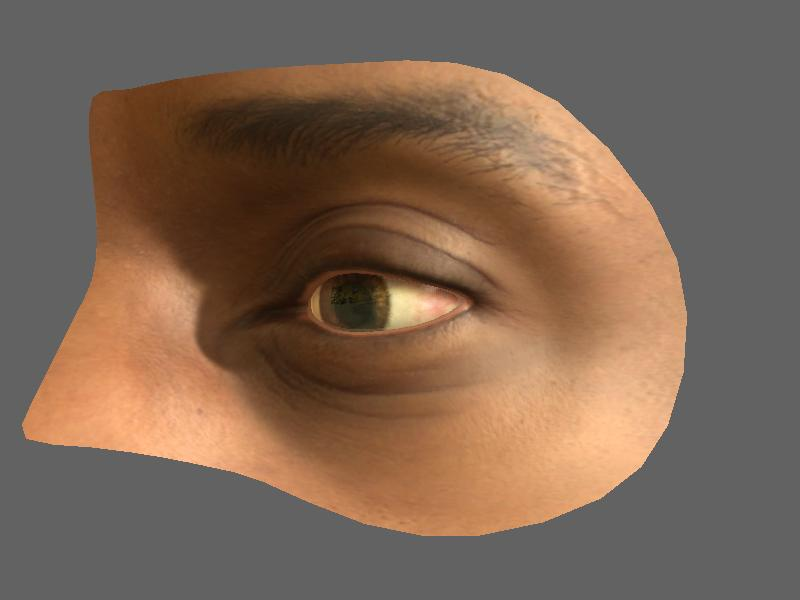iris: (313, 275, 402, 330)
